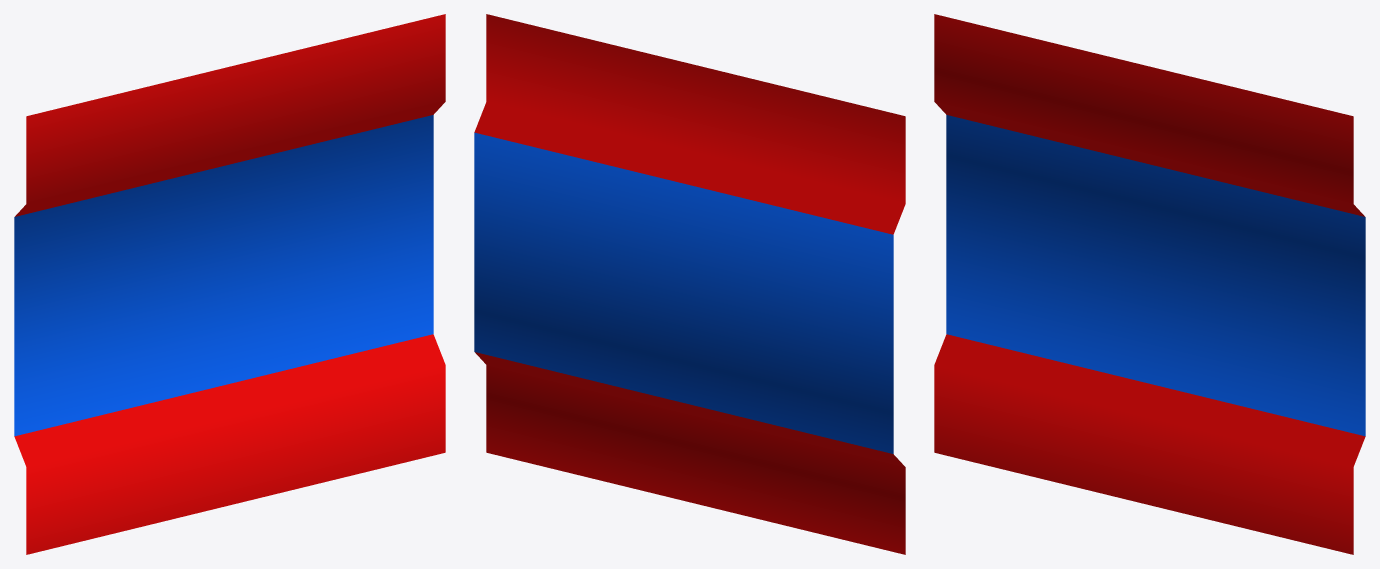
File: Muro_A.FBX
The picture shows the model from 3 angles, left to right: view 1: azimuth 30°, elevation 25°; view 2: azimuth 150°, elevation 25°; view 3: azimuth 330°, elevation 25°; orthographic projection.
Parts seen in each view (by area): view 1: Geo_Pared_A; view 2: Geo_Pared_A; view 3: Geo_Pared_A.
Boxes of the visible parts, <box> form: Geo_Pared_A: <box>14,14,445,554</box>; Geo_Pared_A: <box>474,14,905,554</box>; Geo_Pared_A: <box>934,14,1365,554</box>.
Size of the model in its own units: 400 by 400 by 20.
